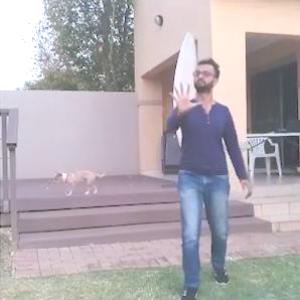follow_hand: (165, 76, 204, 117)
